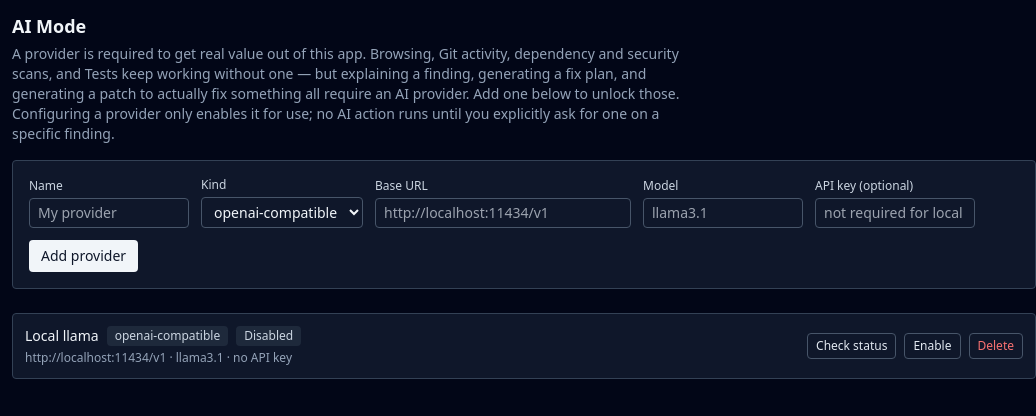
Test case: AiModePage › shows an error detail when the status check reports auth_error
Check: the text "Local llama" is shown, box [25, 326, 99, 346]
Click the button "Check status" at (852, 346), box [807, 333, 896, 359]
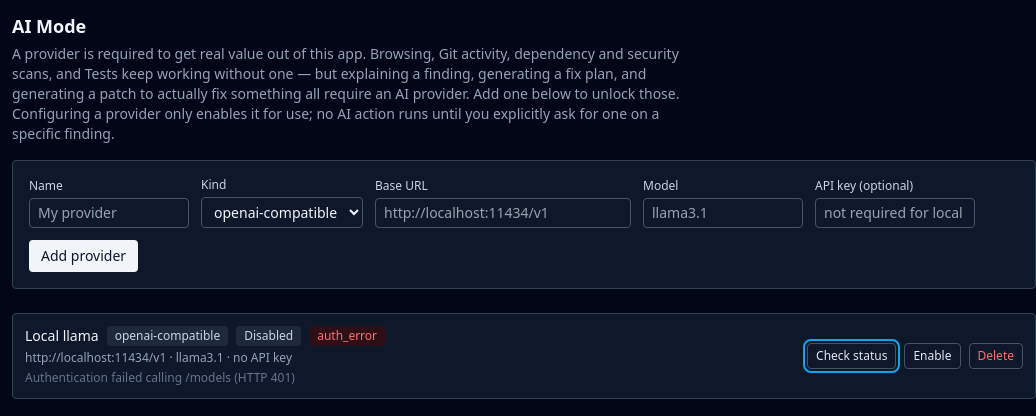
Check: the text "auth_error" is shown, box [309, 326, 385, 346]
Check: the text "Authentication failed calling /models (HTTP 401)" is shown, box [25, 369, 295, 386]
